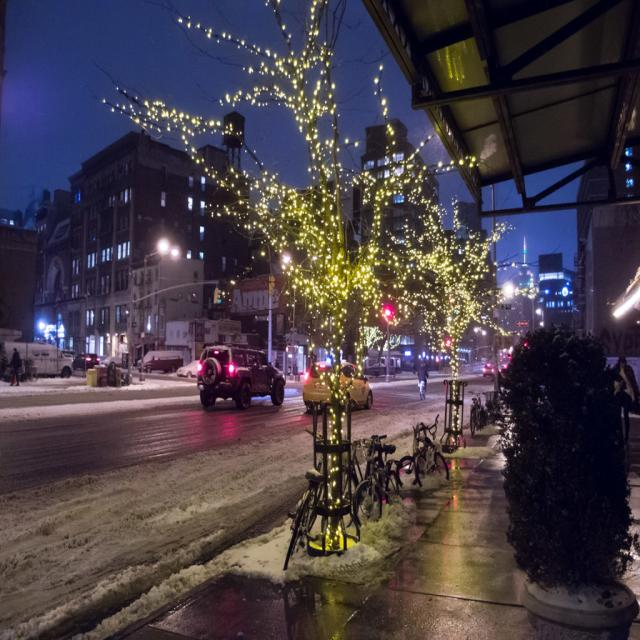car: (190, 350, 281, 421)
